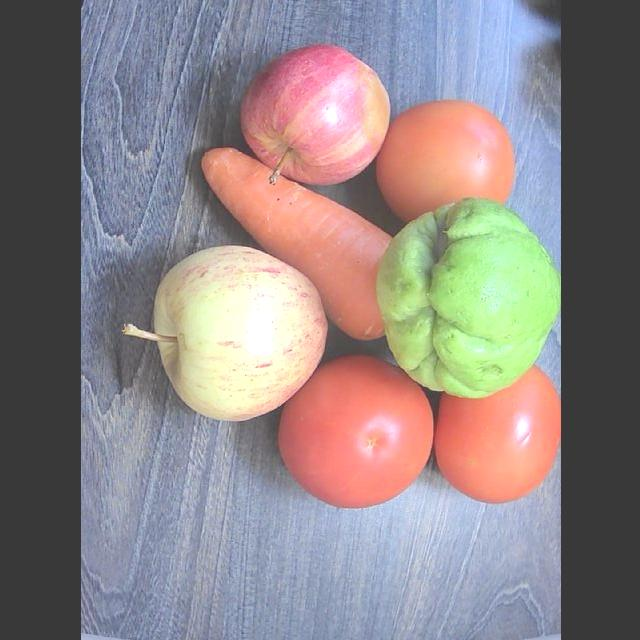chayote: (377, 199, 560, 397)
manzana: (123, 248, 326, 421), (241, 45, 389, 186)
tomate: (278, 356, 432, 508), (434, 366, 560, 504), (376, 101, 513, 222)
zanahoria: (201, 148, 391, 340)
